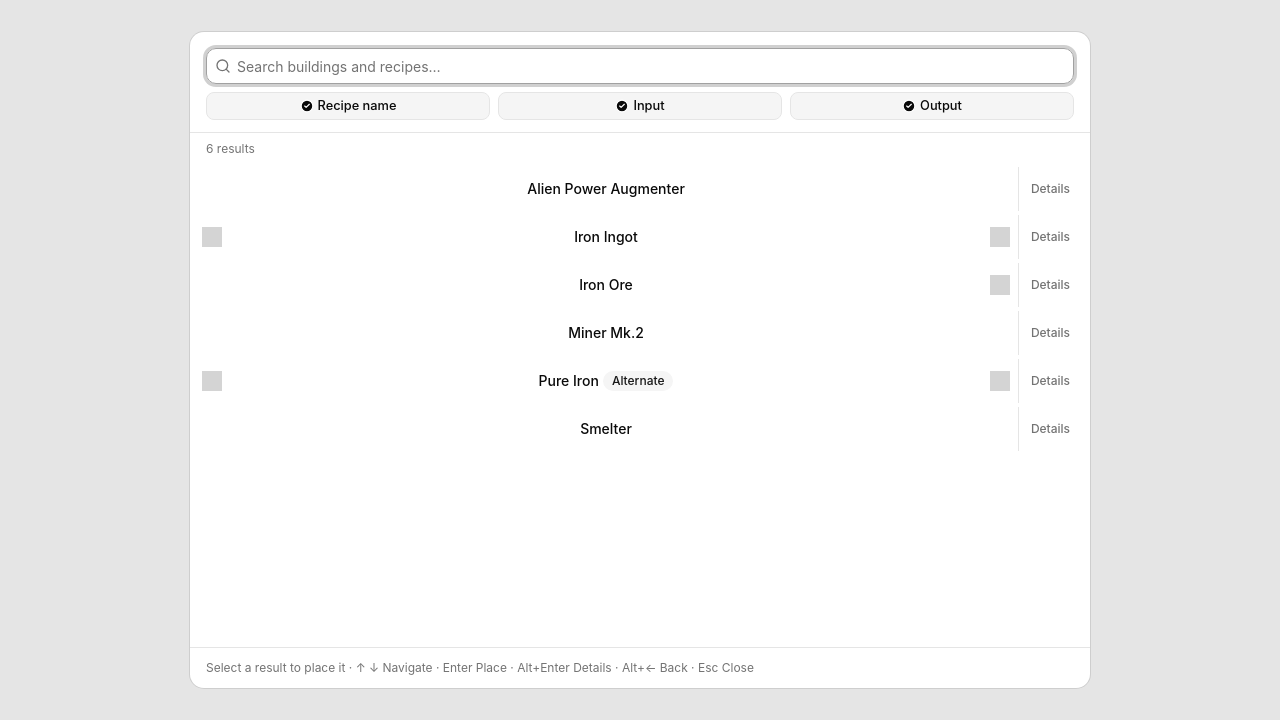
Test: keeps inputs, the recipe name and Alternate badge, and outputs in a single row with separate Details
expect the text "Pure Iron" is shown: met, box [538, 371, 599, 391]
Click the button with aria-label "Details for Pure Iron" at [1050, 381], box [1023, 359, 1078, 403]
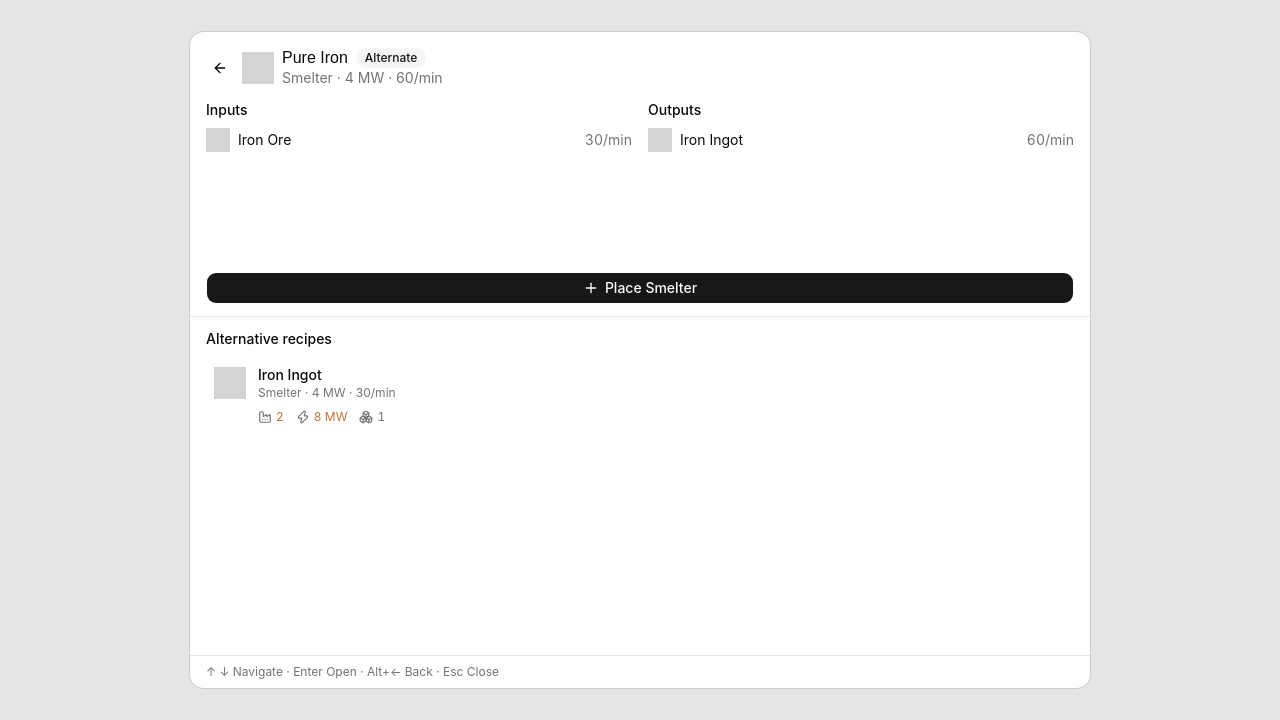
expect the text "Smelter · 4 MW · 60/min" is shown: met, box [282, 69, 443, 86]
